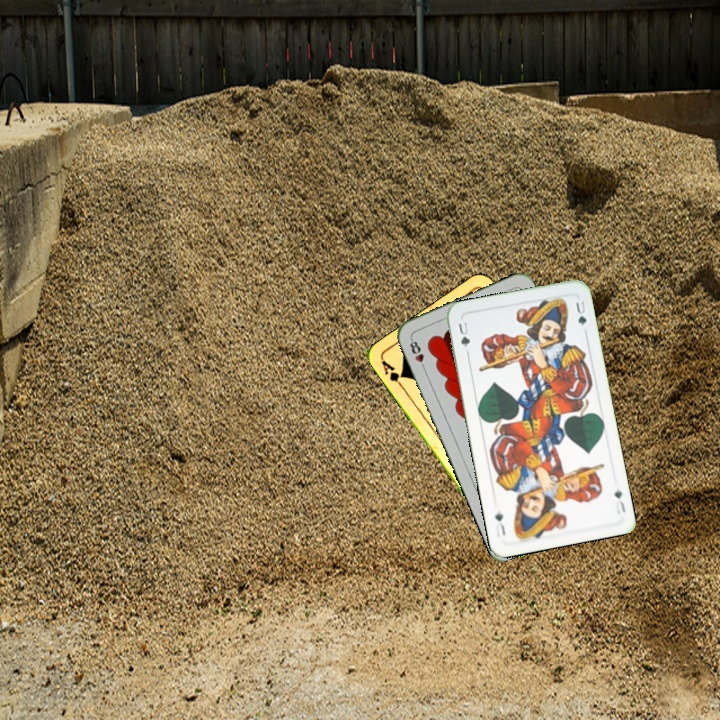GA: (377, 356, 407, 391)
GU: (454, 318, 473, 350), (610, 486, 628, 517)
H8: (406, 334, 429, 373)
